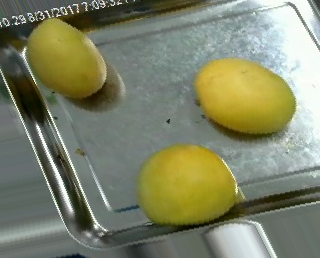Mango: (138, 146, 238, 226), (195, 58, 297, 133), (27, 17, 109, 98)
